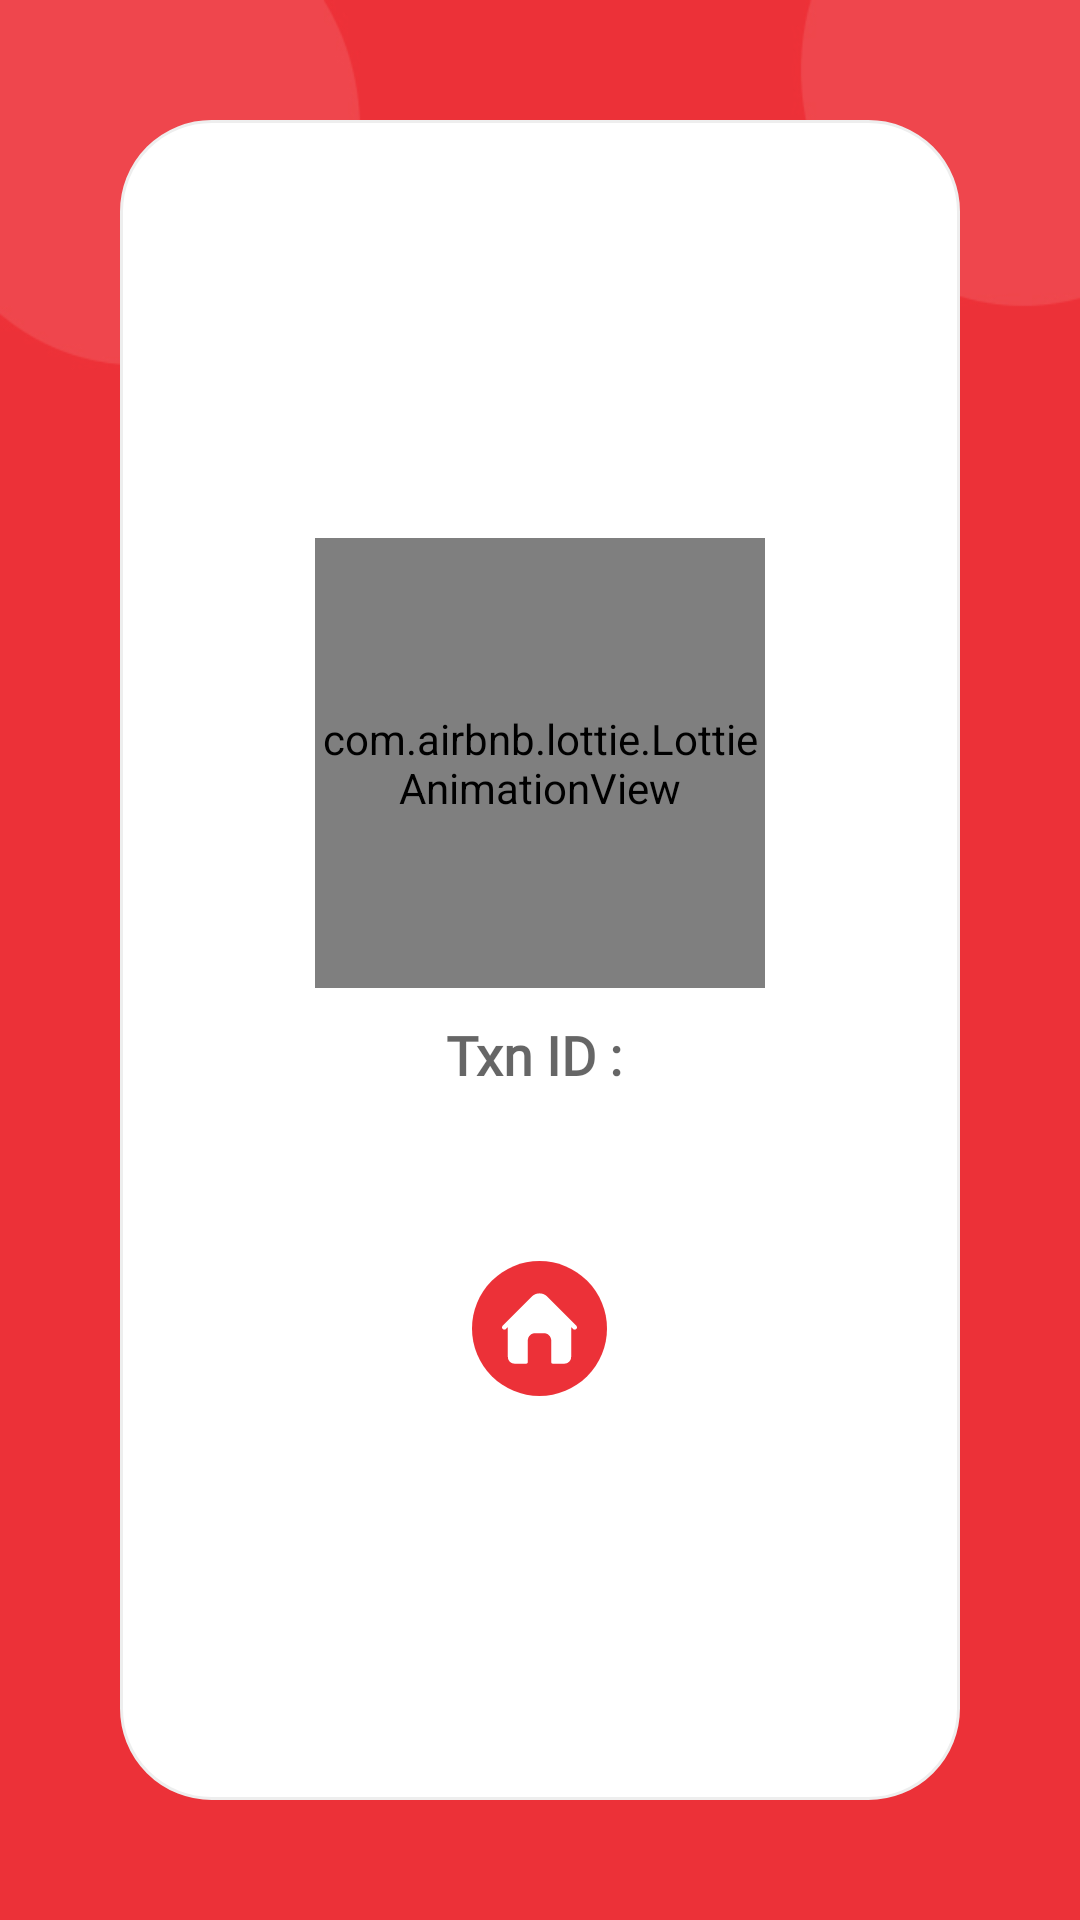

Icon bounding boxes for this 1080w x 1920h phone screenshot, format (x1, y1, x2, y2):
home: (502, 1293, 577, 1364)
